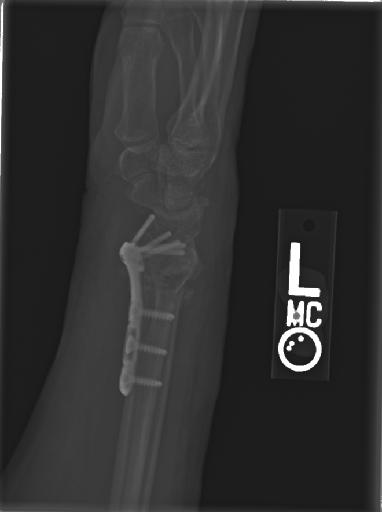fingers positive: (101, 245, 217, 311)
